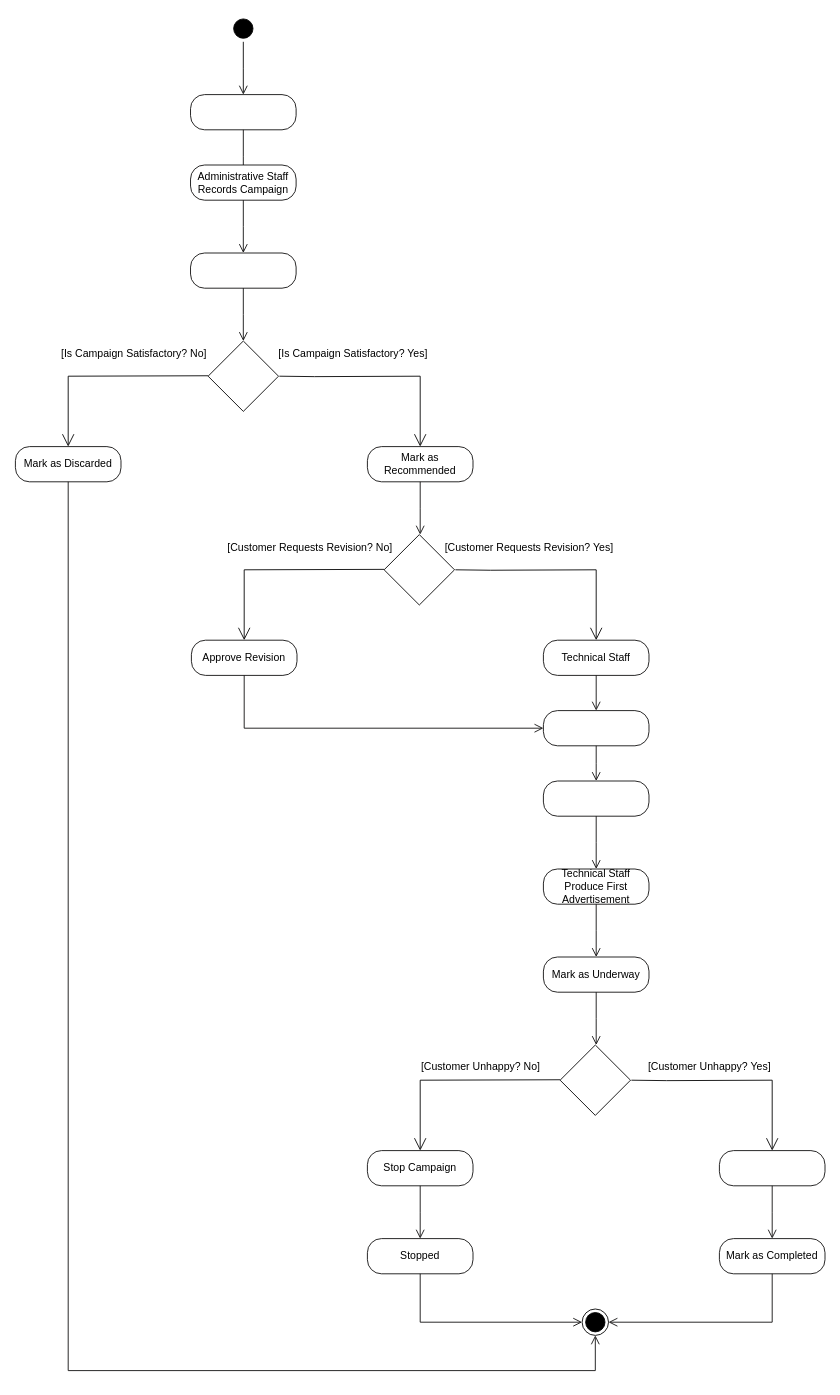
Image size: 840x1395. Some labels were removed from this diagram. The centre of each missing label's shape, as x and y in pixels:
"Customer Commissions Campaign" belongs at (x=596, y=798).
"Customer Makes Final Payment" belongs at (x=772, y=1168).
"Customer Proposes Campaign" belongs at (x=243, y=112).
"Mark as Revised" belongs at (x=596, y=728).
"Technical Staff Assess Campaign" belongs at (x=243, y=270).
